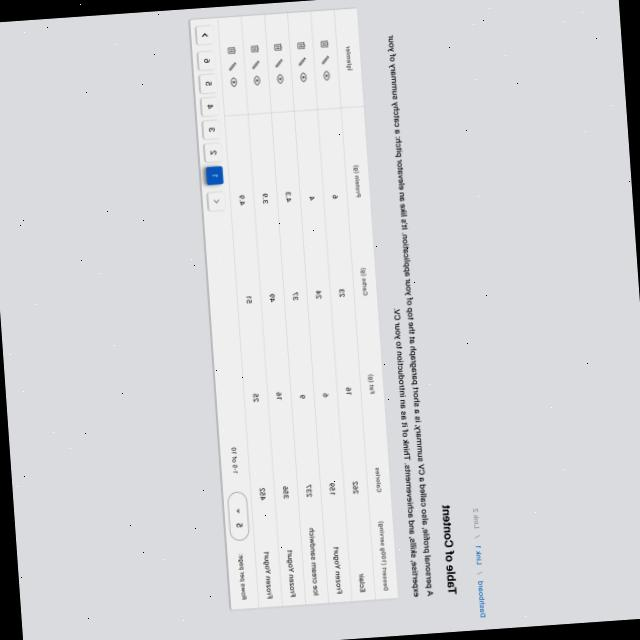QLabel: (370, 31, 438, 603), (438, 502, 456, 596)
VBreadcrumbs: (468, 504, 488, 620)
VDataTable: (186, 6, 398, 610)
